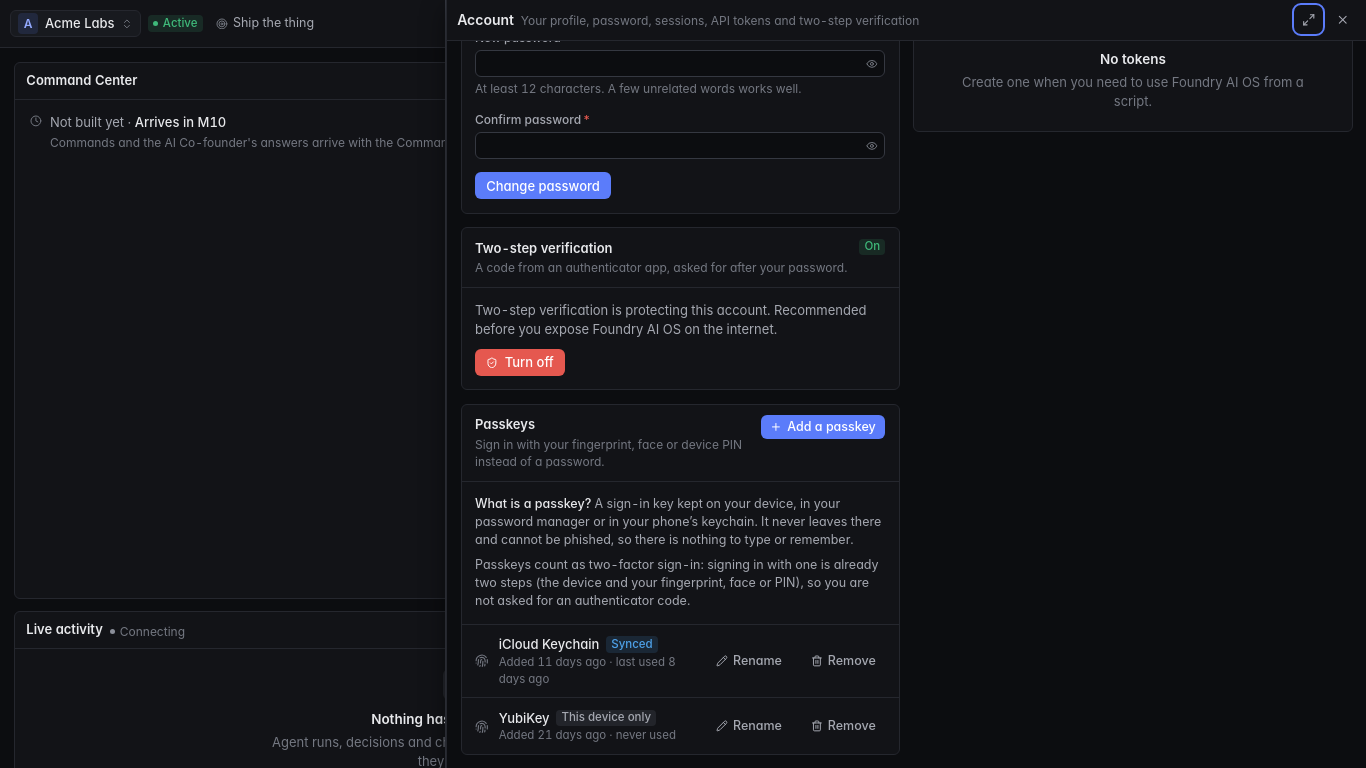
passkeys in the account panel › renames a passkey
(page scrolled)
Click the button with aria-label "Rename passkey iCloud Keychain": click(749, 661) [707,649,791,673]
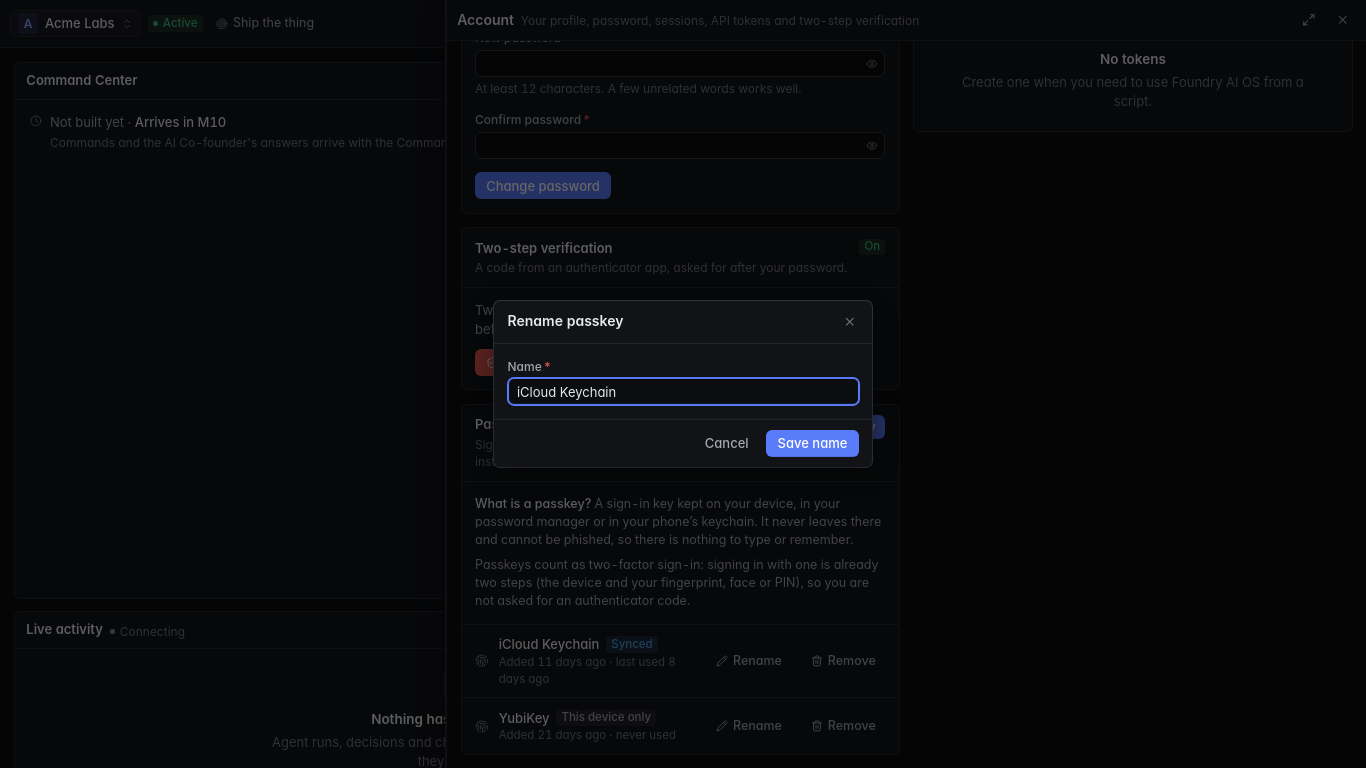
Now the field labelled "Name*" holds "iCloud Keychain"
Replace the text in the field labelled "Name*" with "Personal Mac": (683, 392) [508,378,858,405]
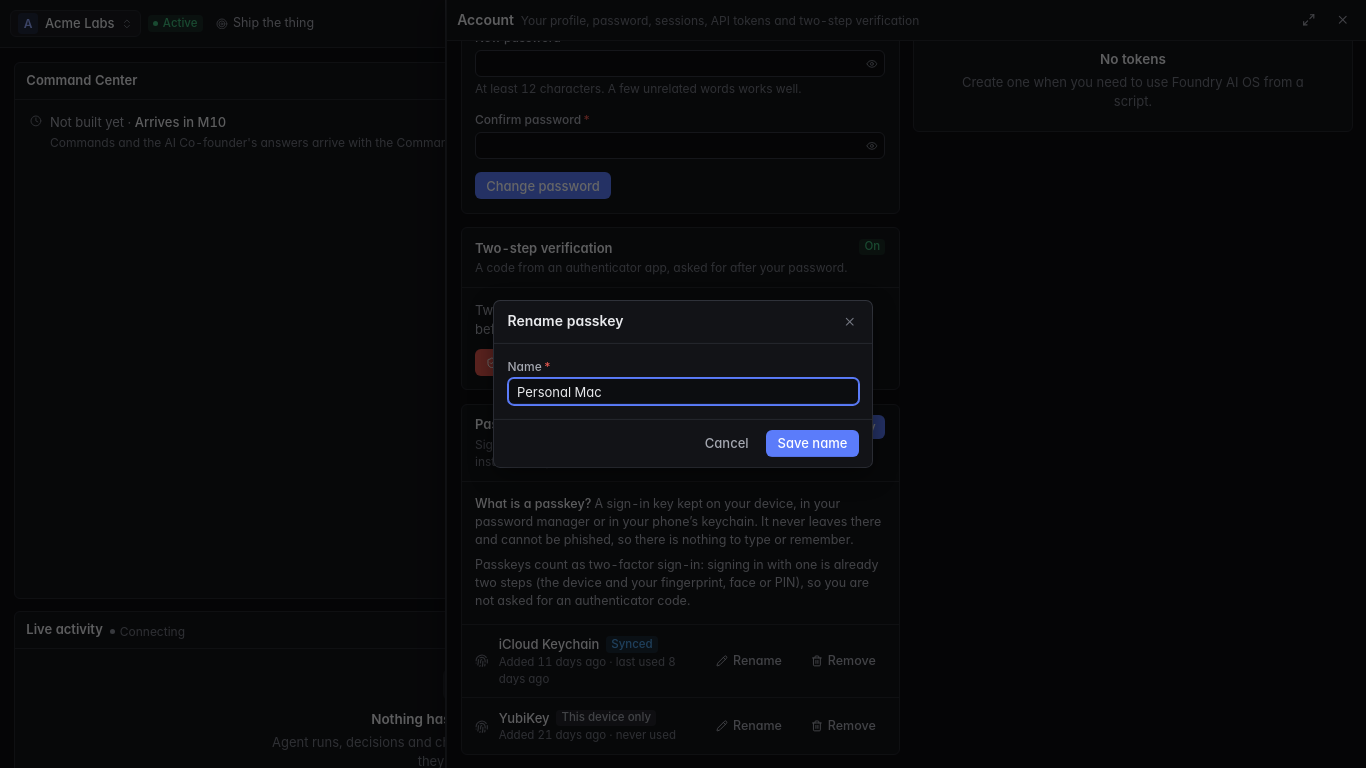
Click the button "Save name": click(812, 444) [766,430,858,457]
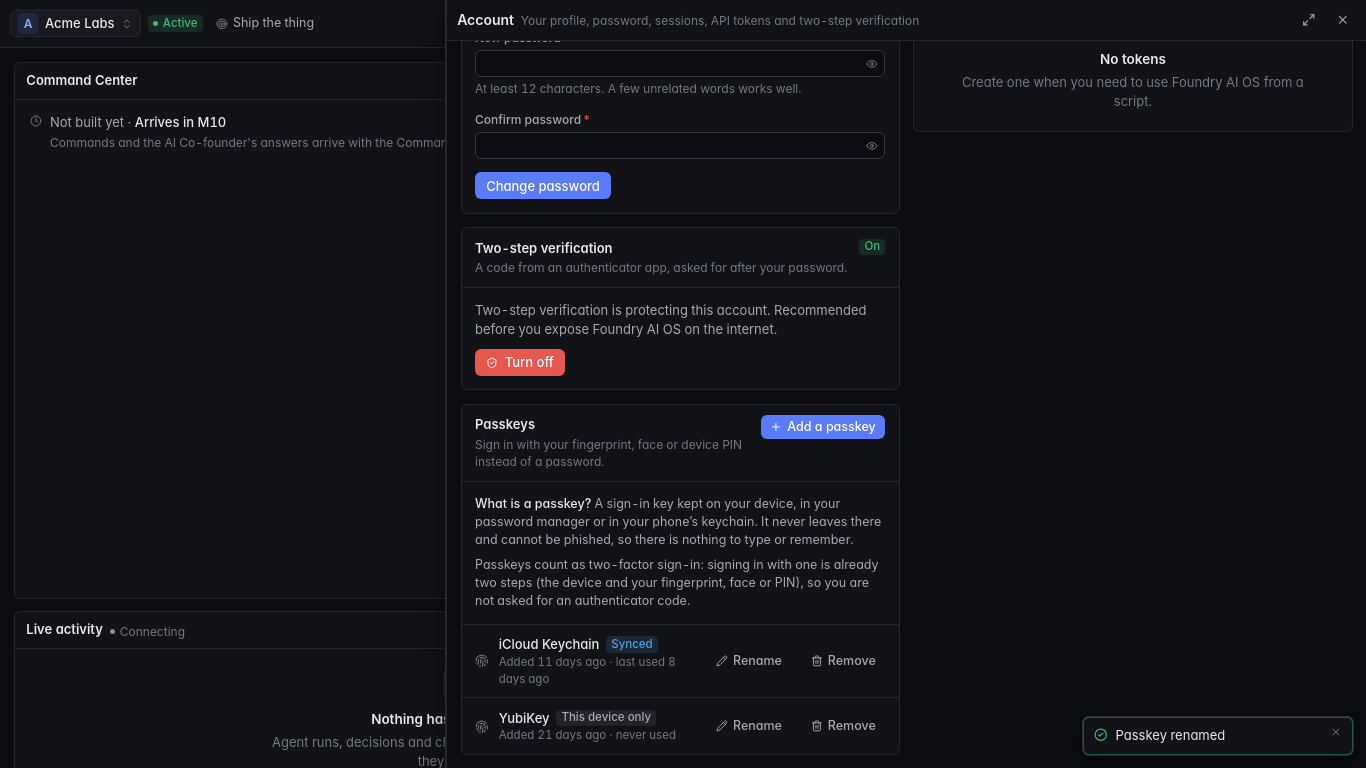
Now the heading "Rename passkey" is gone
